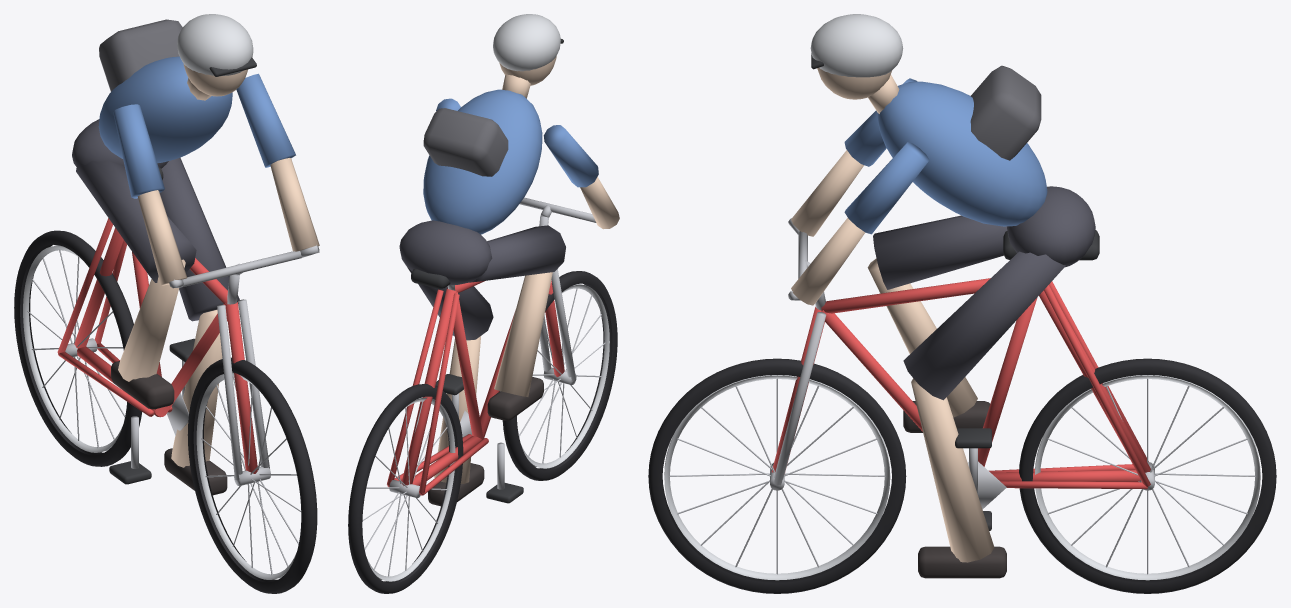
The model's file is cycliste.glb.
The picture shows the model from 3 angles, left to right: view 1: azimuth 30°, elevation 25°; view 2: azimuth 150°, elevation 25°; view 3: azimuth 270°, elevation 25°; orthographic projection. The views are drawn at different scales.
Parts seen in each view (by area): view 1: torse, pneu, pneu.001, cuisse.001, cuisse, casque, mollet, sac, bras, bras.001, mollet.001, avant_bras (+22 smaller); view 2: torse, pneu.001, bassin, sac, pneu, mollet, cuisse, casque, cadre.004, bras, cuisse.001, jante (+21 smaller); view 3: torse, pneu, pneu.001, cuisse.001, cuisse, mollet.001, sac, casque, bassin, jante, jante.001, bras.001 (+15 smaller).
Part boxes in pixels (box(x1,y1,x2,y2)): torse: box(98, 56, 232, 163); pneu: box(187, 357, 317, 593); pneu.001: box(14, 230, 141, 466); cuisse.001: box(159, 157, 239, 321); cuisse: box(76, 160, 196, 282); casque: box(177, 14, 253, 76); mollet: box(118, 259, 185, 381); sac: box(99, 19, 182, 91); bras: box(113, 104, 164, 198); bras.001: box(236, 73, 295, 167); mollet.001: box(171, 310, 222, 467); avant_bras: box(137, 190, 187, 285); torse: box(423, 89, 542, 234); pneu.001: box(348, 384, 463, 593); bassin: box(399, 220, 492, 285); sac: box(423, 108, 508, 176); pneu: box(502, 271, 617, 480); mollet: box(494, 272, 552, 396); cuisse: box(470, 225, 565, 282); casque: box(493, 14, 560, 71); cadre.004: box(401, 289, 456, 485); bras: box(543, 125, 598, 187); cuisse.001: box(407, 267, 493, 340); jante: box(521, 284, 609, 468); torse: box(877, 81, 1047, 226); pneu: box(648, 358, 906, 593); pneu.001: box(1019, 358, 1276, 593); cuisse.001: box(903, 251, 1065, 400); cuisse: box(873, 215, 1007, 289); mollet.001: box(911, 378, 994, 562); sac: box(970, 65, 1041, 160); casque: box(810, 14, 903, 77); bassin: box(1007, 186, 1095, 267); jante: box(664, 375, 890, 580); jante.001: box(1035, 375, 1260, 580); bras.001: box(844, 142, 929, 234).
Bounding box in the file's own units: 0.5374 × 1.71 × 1.7.
